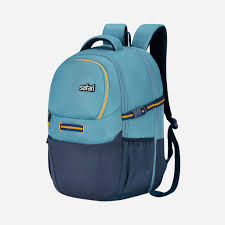backpack: (45, 22, 180, 201)
